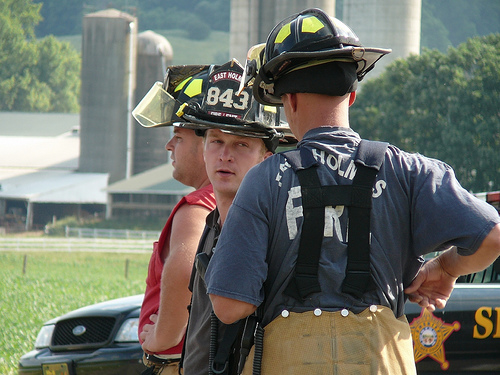helmet: (263, 20, 373, 73), (193, 67, 277, 136)
